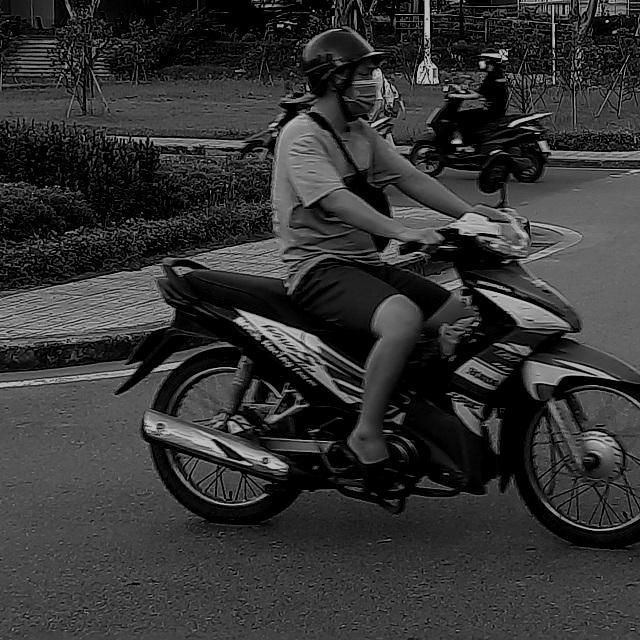Helmet: (295, 25, 385, 115)
